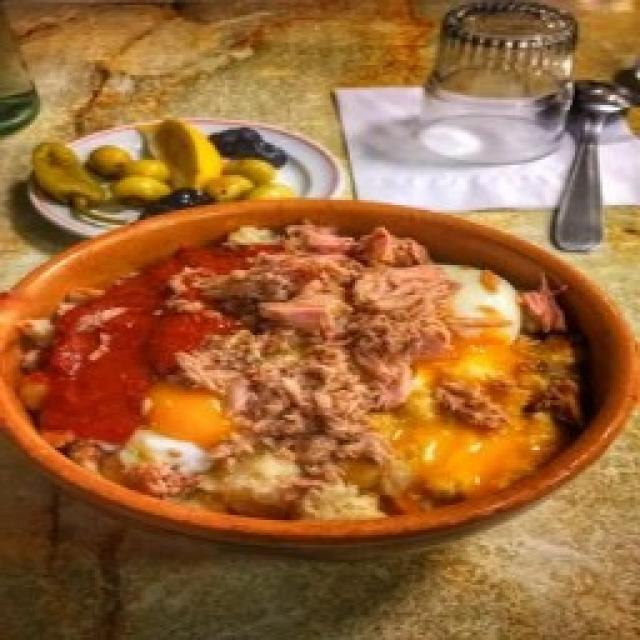Lablabi: (0, 202, 635, 548)
